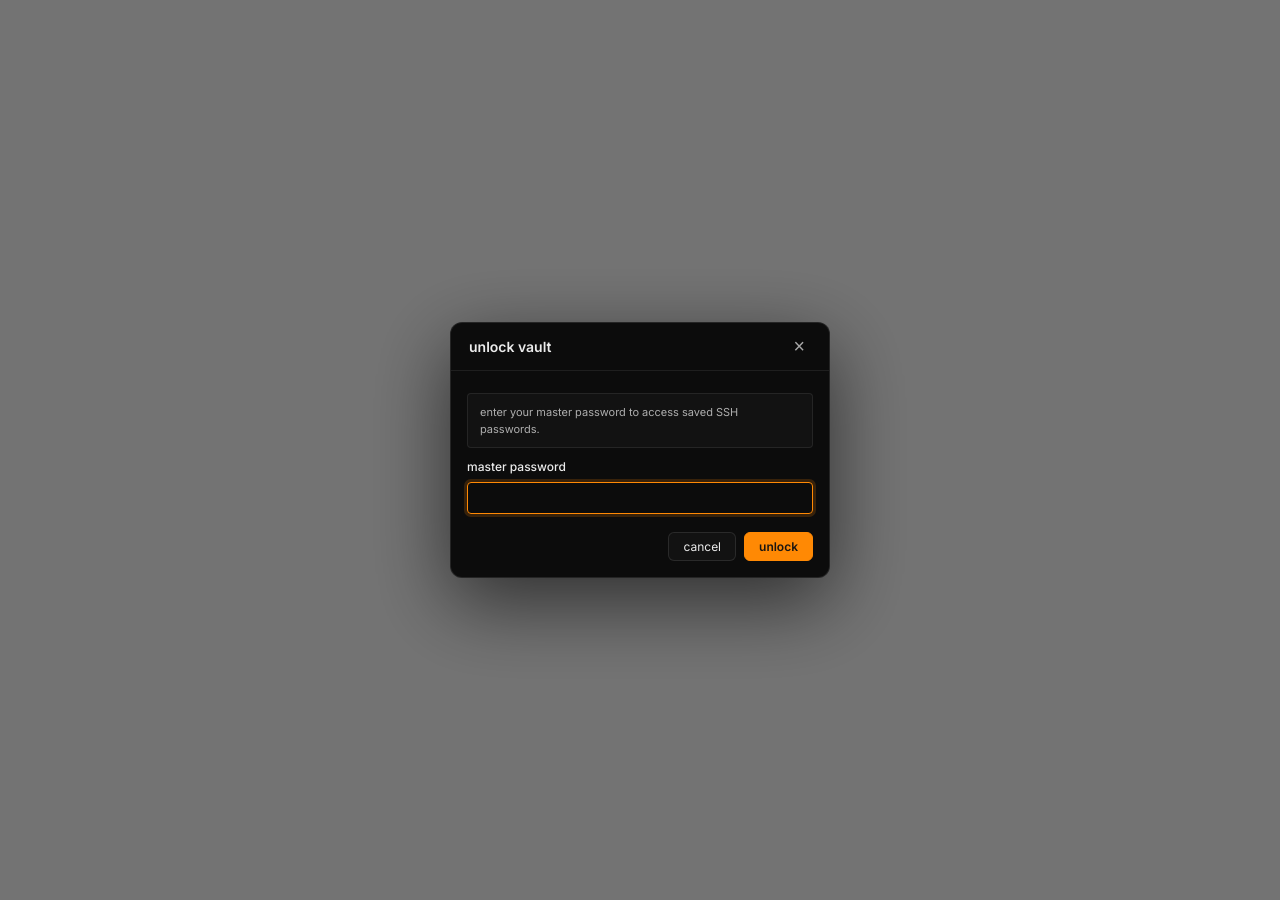
it: MasterPasswordModal - decrypting phase › returns to input phase on unlock failure and re-enables fields
Step 1. Type "wrong" into the password field with class "settings-input" → (640, 498), box 467,482 -> 813,514
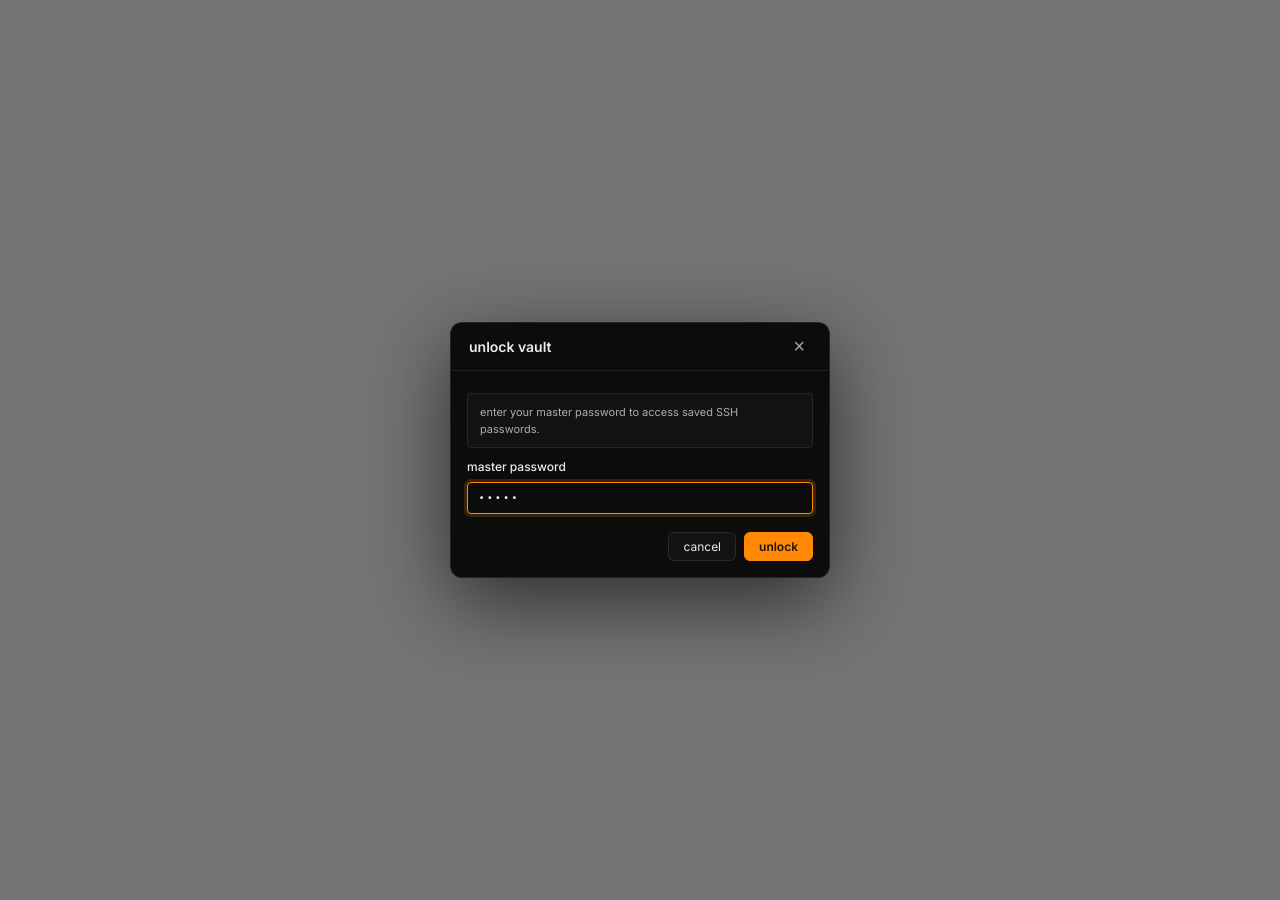
Step 2. Click the button "unlock" → (778, 547), box 744,532 -> 813,561
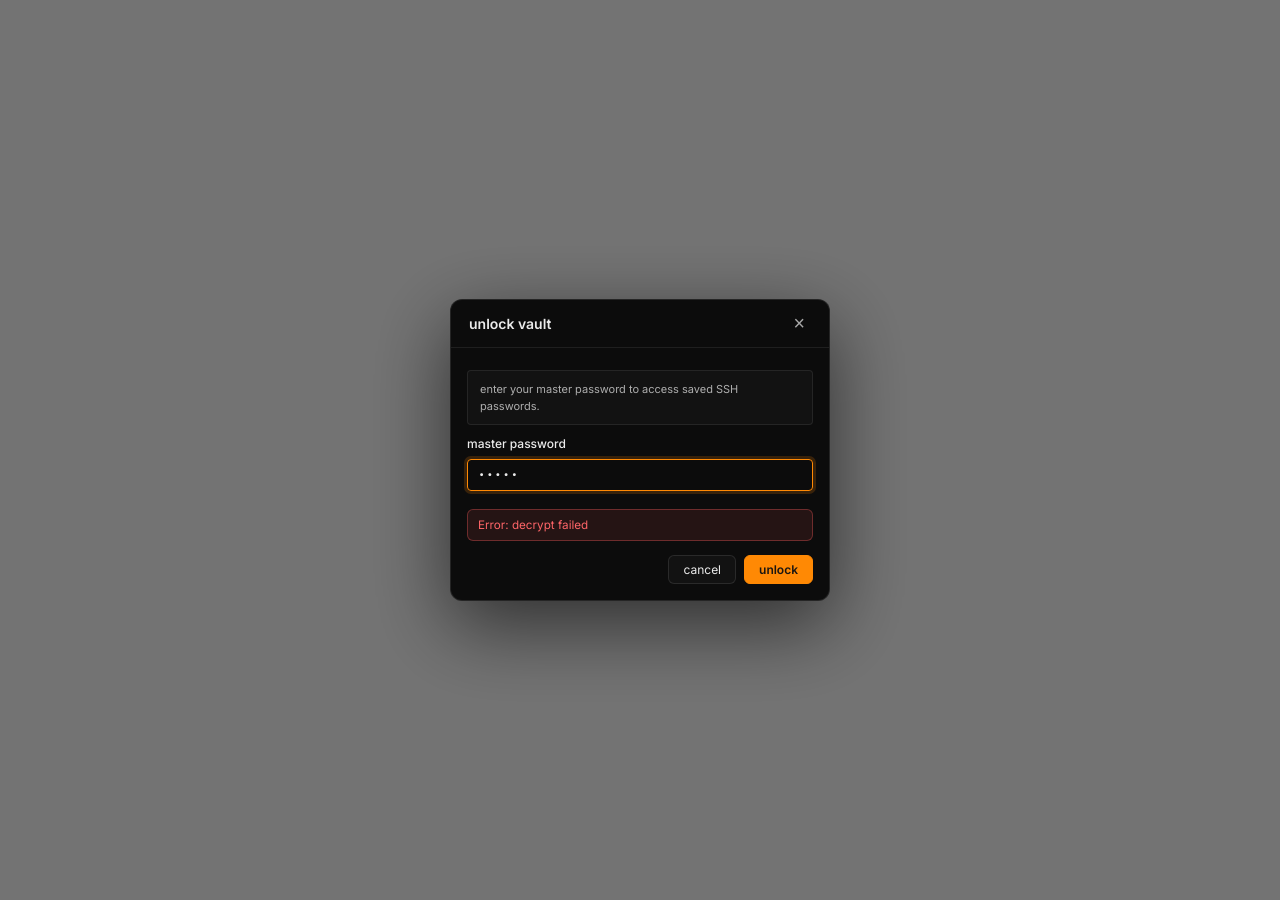
Expected: the password field with class "settings-input" is shown, 467,459 -> 813,491
Expected: the text "Error: decrypt failed" is shown, 467,509 -> 813,541
